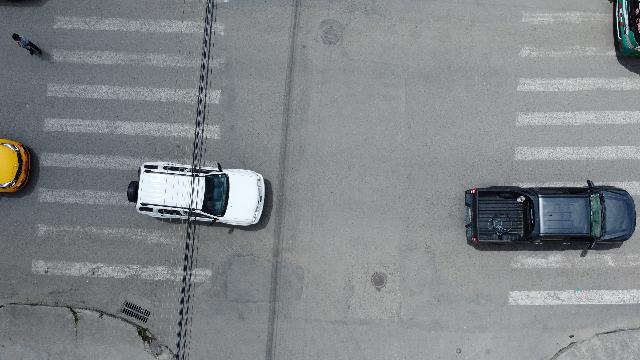Vehiculo: (464, 180, 636, 250), (127, 161, 265, 227), (0, 139, 30, 193), (612, 1, 640, 57)
